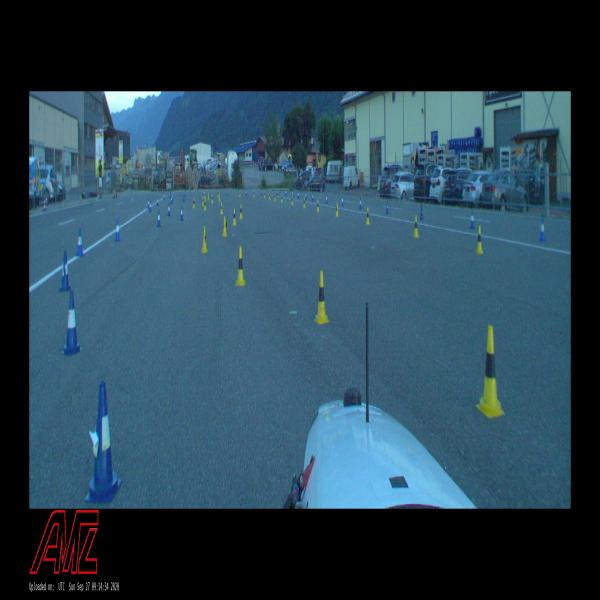blue_cone: (85, 381, 122, 503), (62, 291, 83, 354), (60, 250, 70, 290), (76, 229, 84, 256), (539, 219, 546, 242), (114, 219, 120, 242), (470, 209, 475, 229), (419, 205, 424, 220), (157, 209, 161, 227), (180, 206, 184, 221), (359, 197, 362, 209), (149, 201, 152, 212), (341, 196, 344, 206), (168, 203, 170, 216), (386, 201, 388, 213), (326, 193, 328, 204), (148, 200, 150, 209), (170, 196, 172, 204), (305, 192, 307, 200), (157, 197, 158, 206), (312, 193, 313, 201), (183, 193, 184, 201), (298, 191, 299, 198)
yellow_cone: (476, 325, 505, 418), (314, 272, 330, 324), (235, 247, 246, 286), (476, 226, 483, 254), (201, 226, 208, 252), (413, 216, 419, 238), (223, 217, 227, 236), (232, 209, 236, 226), (366, 208, 370, 224), (239, 204, 243, 219), (335, 203, 339, 216), (220, 202, 223, 214), (303, 197, 306, 208), (317, 200, 319, 212), (204, 199, 206, 210), (207, 193, 210, 200), (193, 198, 195, 208), (202, 196, 204, 206), (291, 195, 293, 204), (211, 194, 213, 203), (281, 194, 283, 202), (274, 193, 276, 201), (268, 192, 270, 199), (253, 190, 255, 197), (264, 191, 266, 198), (204, 191, 206, 198), (218, 190, 219, 197)
